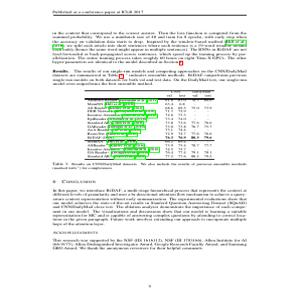table: (74, 89, 223, 162)
text: (48, 180, 249, 254), (48, 30, 251, 88)
